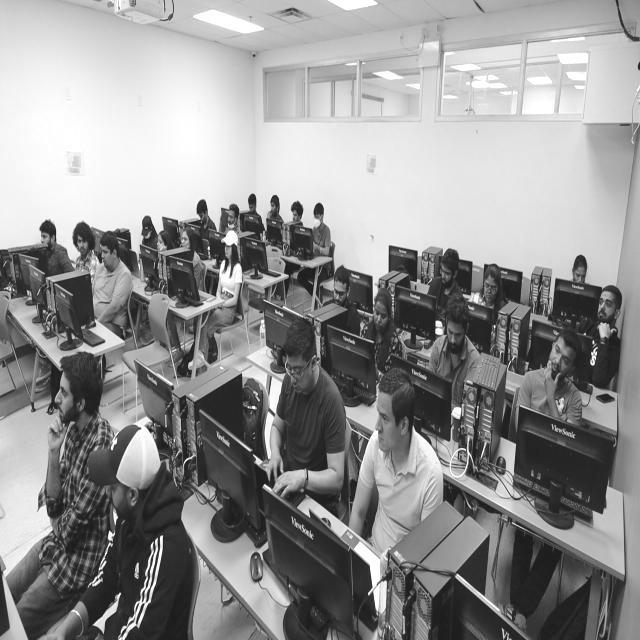Looking away: (284, 353, 317, 396), (446, 321, 464, 354), (374, 297, 390, 330), (484, 275, 498, 306), (334, 278, 347, 306), (573, 265, 587, 289), (440, 264, 452, 290)
Looking forward: (374, 390, 400, 452), (549, 333, 571, 382), (596, 287, 616, 328), (100, 242, 115, 270), (76, 235, 90, 258), (40, 226, 51, 247), (156, 234, 167, 254), (224, 239, 233, 260), (180, 231, 188, 250)
